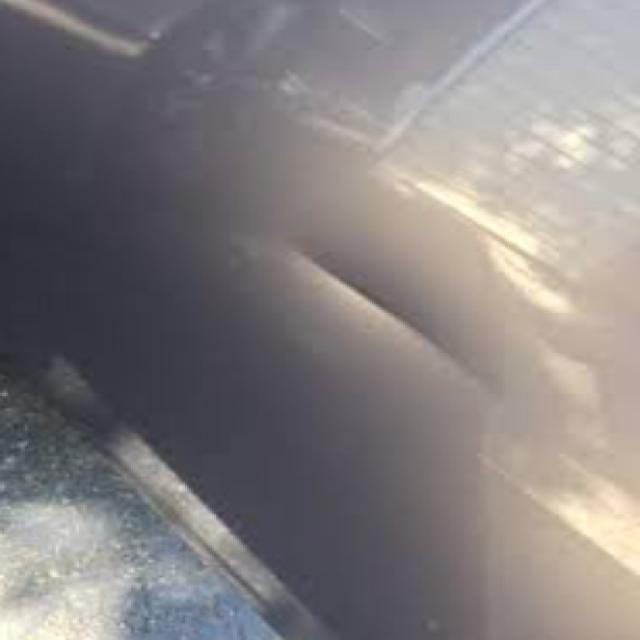dents: (206, 212, 522, 392)
